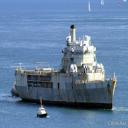Portanaves: (13, 25, 118, 113)
